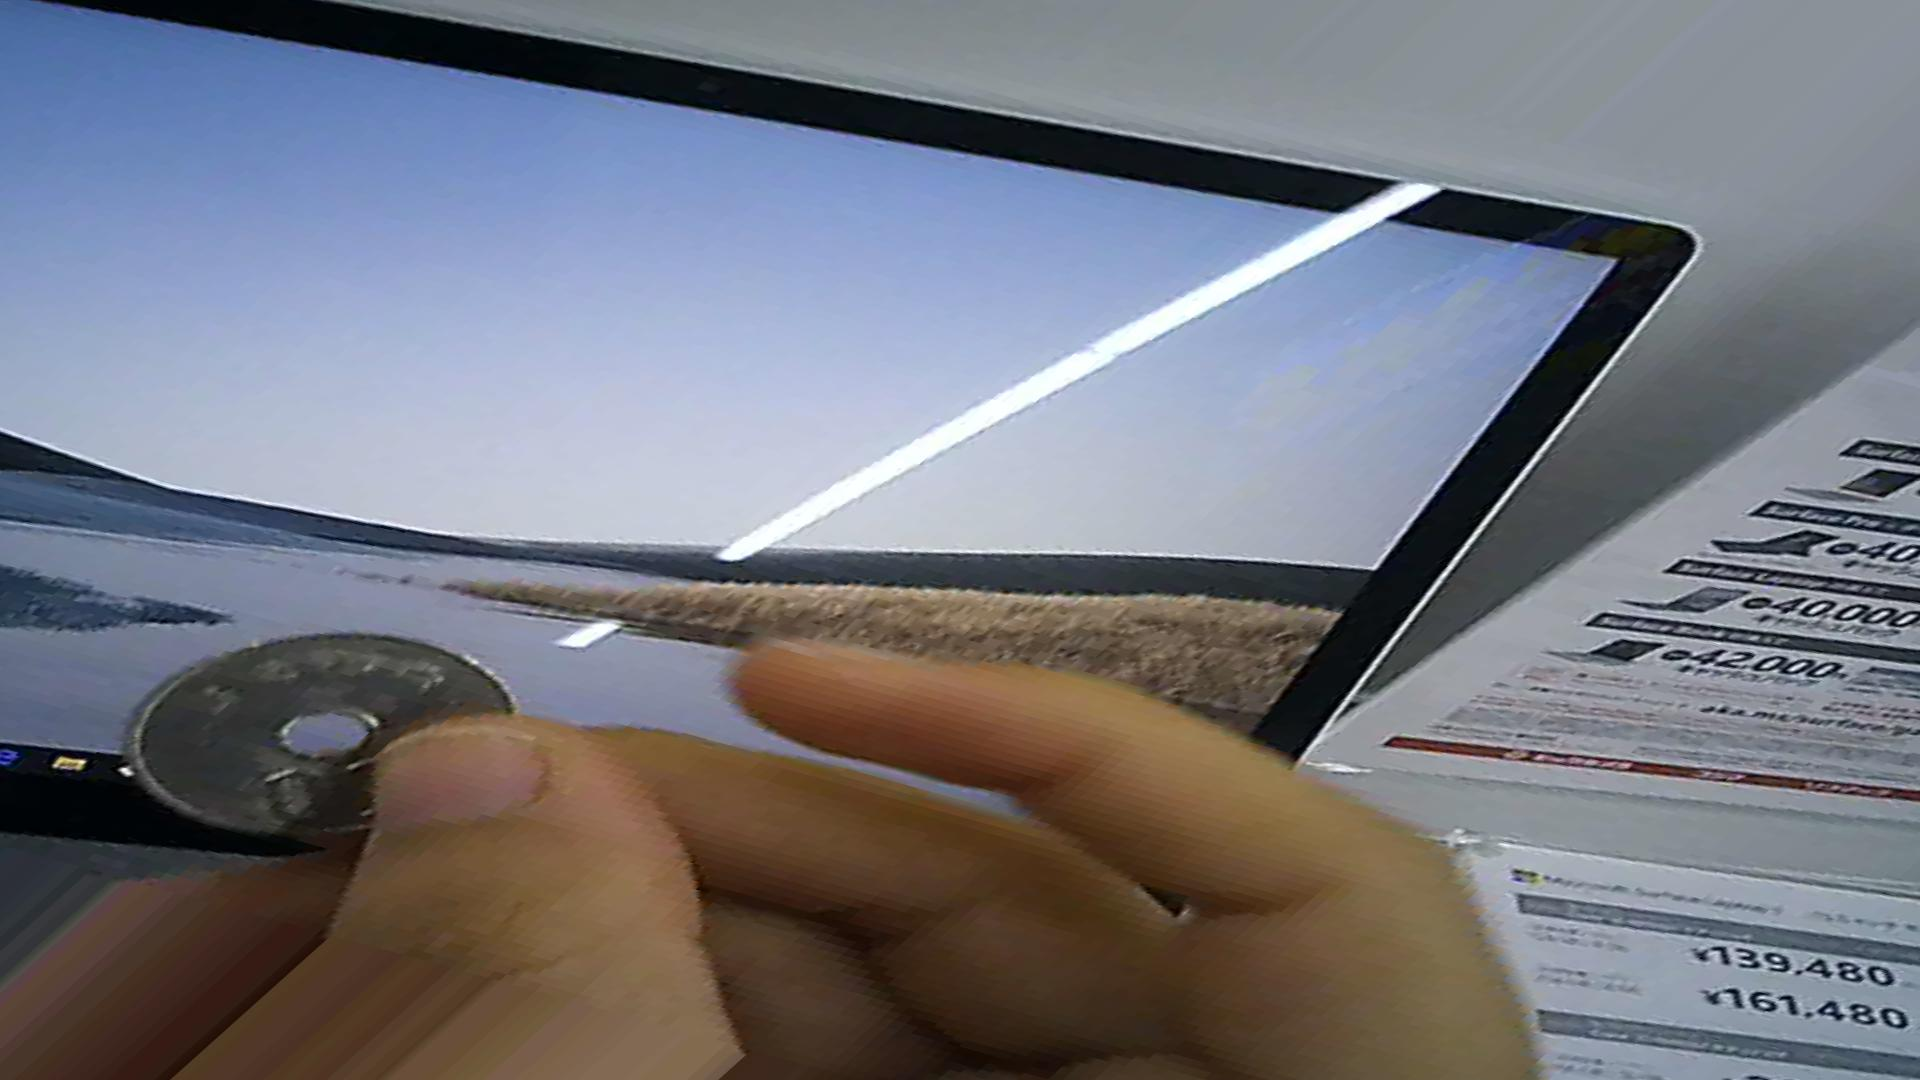50 Yen: (127, 630, 521, 868)
